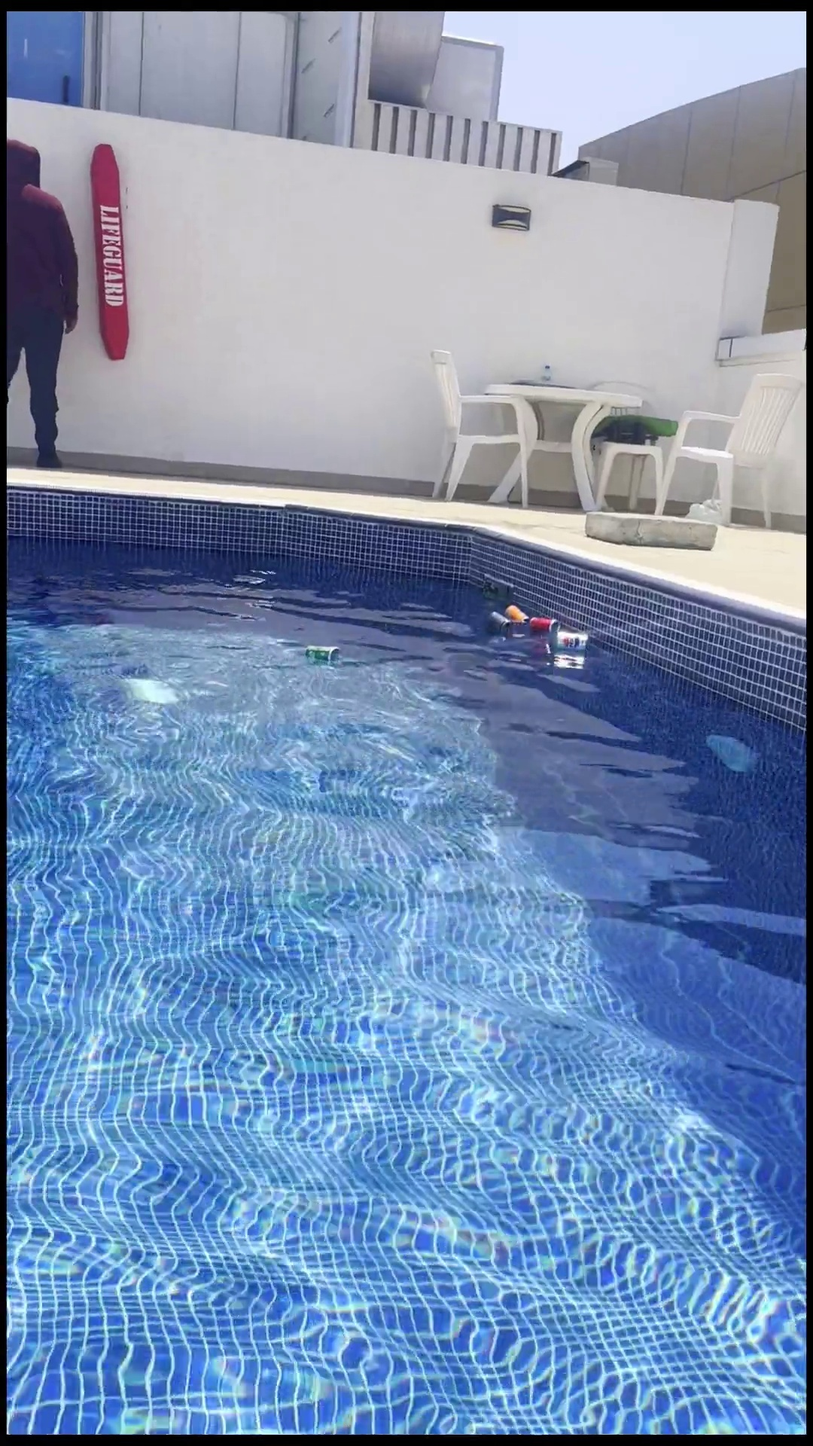debris: (548, 612, 591, 669), (302, 627, 338, 679), (525, 598, 559, 651), (483, 589, 508, 642), (503, 586, 528, 639)
